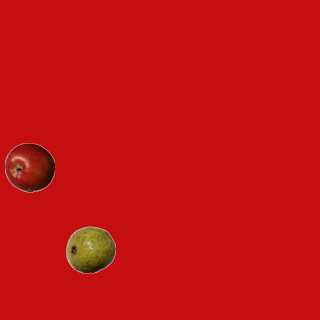Apple Braeburn: (4, 142, 54, 192)
Guava: (65, 224, 115, 274)
